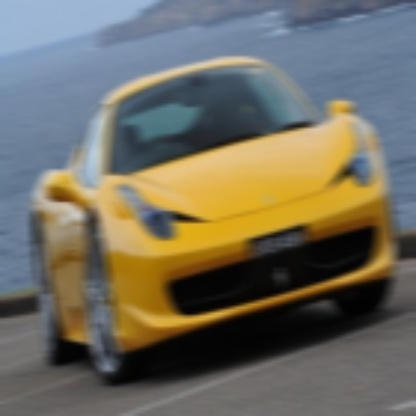Vehicle: (33, 51, 397, 383)
